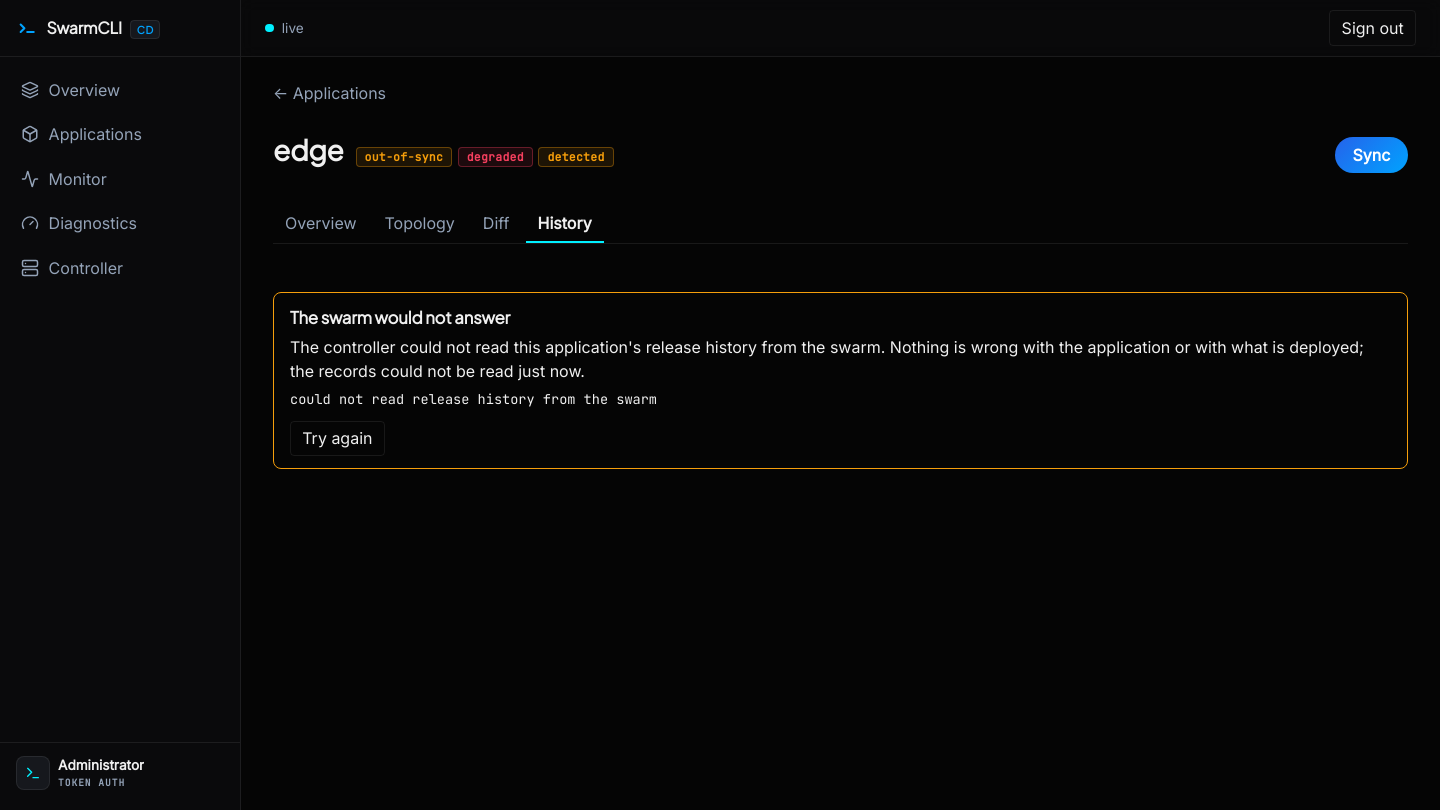
Test: the answers that are not a table › re-asks when the retry is pressed, and shows the history the swarm then gave
The image size is (1440, 810).
Click the button "Try again": (337, 438) [290,420,385,456]
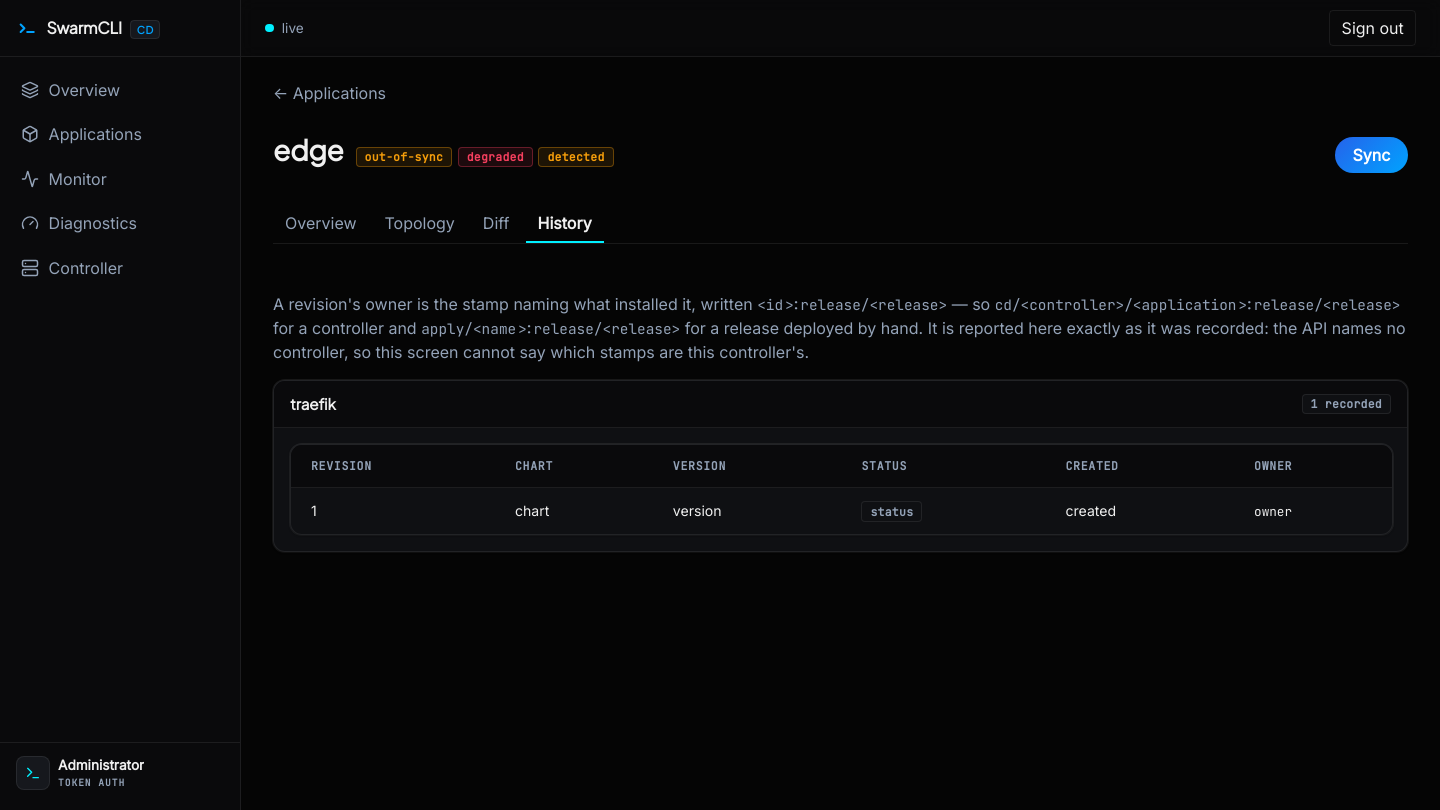
Check: the heading "traefik" is shown, box [290,393,336,415]
Check: the message with test id "history-unreachable" is gone
